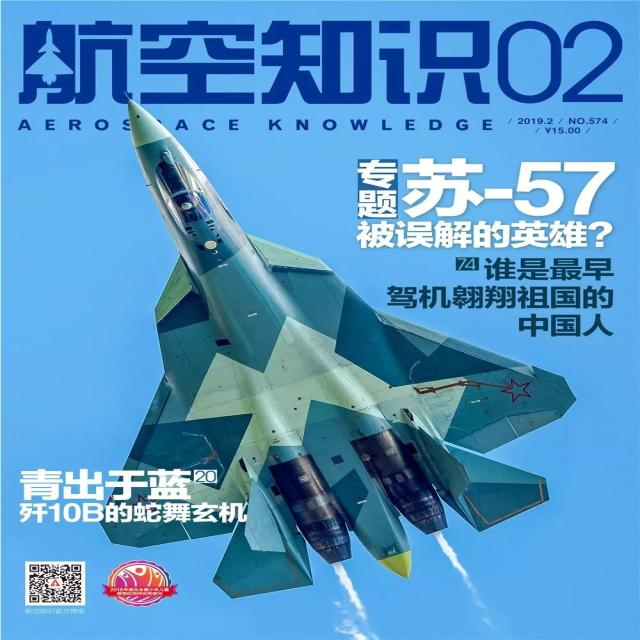MIL_Plane: (99, 90, 577, 599)
